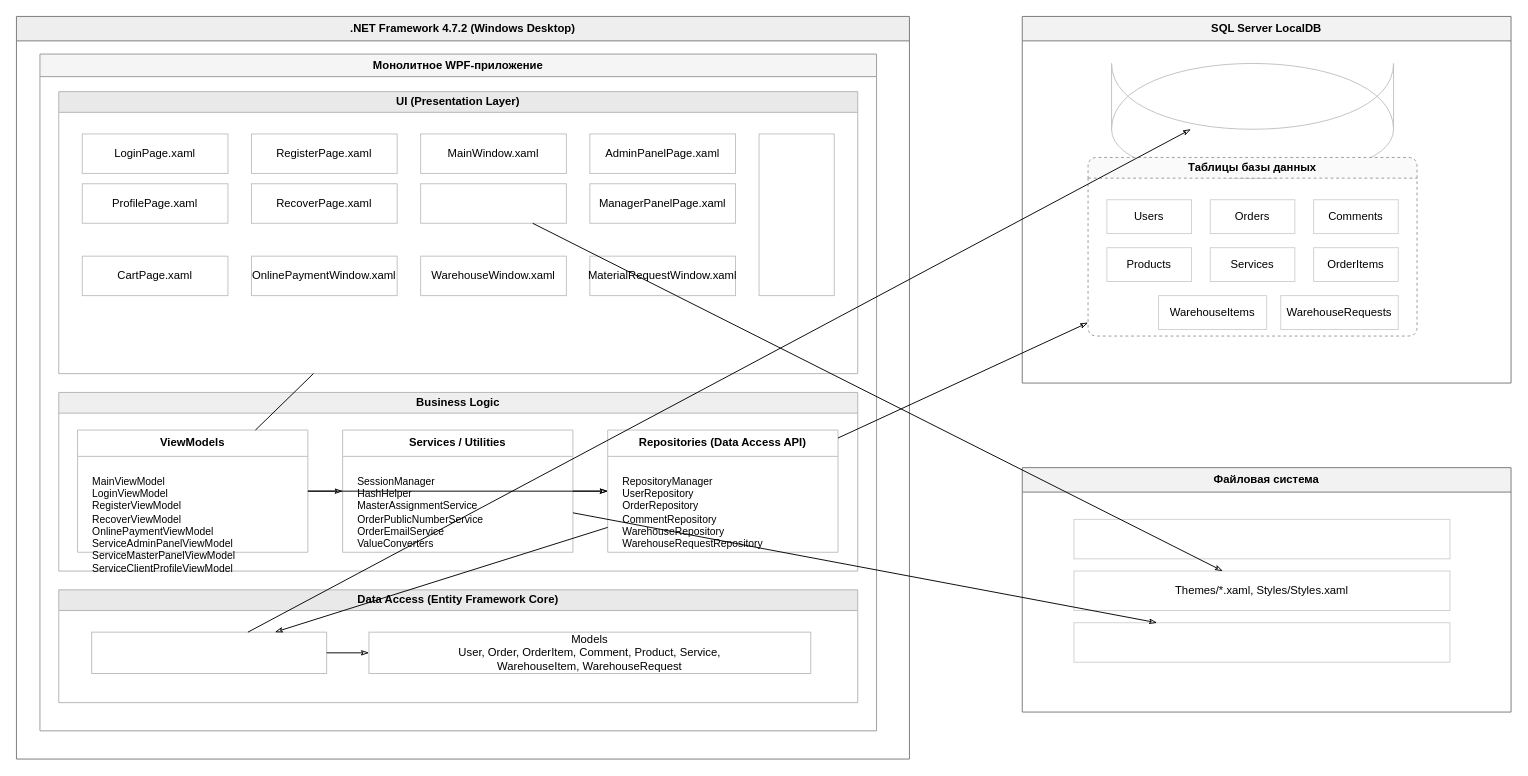
The diagram is 1528 pixels wide and 776 high, and some of its shapes have lost their labels. Each missing label, with the centre of its shape:
"App.config, Properties/Settings.settings" belongs at (x=1261, y=642).
"App.xaml" belongs at (x=493, y=203).
"AppDbContext" belongs at (x=209, y=652).
"Images/defaultproduct.png Images/defaultprofile.png" belongs at (x=1261, y=538).
"RepairServiceDb" belongs at (x=1252, y=96).
"UserEditWindow.xaml WarehouseItemWindow.xaml WarehouseRequestsWindow.xaml" belongs at (x=796, y=214).
